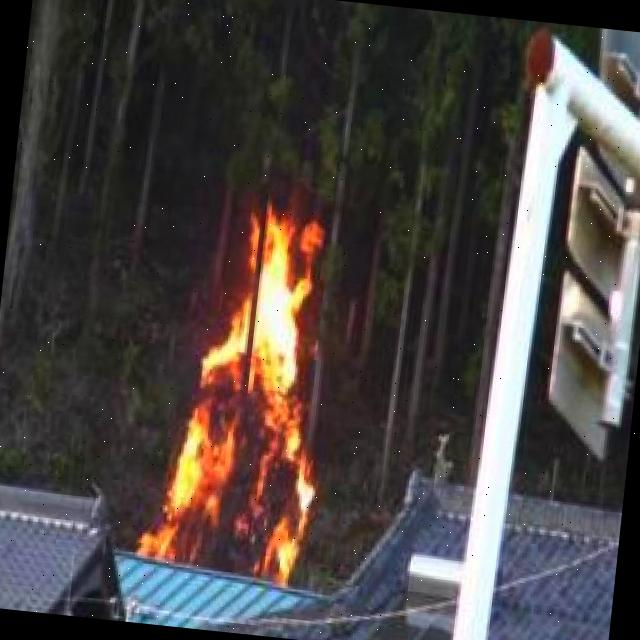fire: (152, 213, 342, 589)
